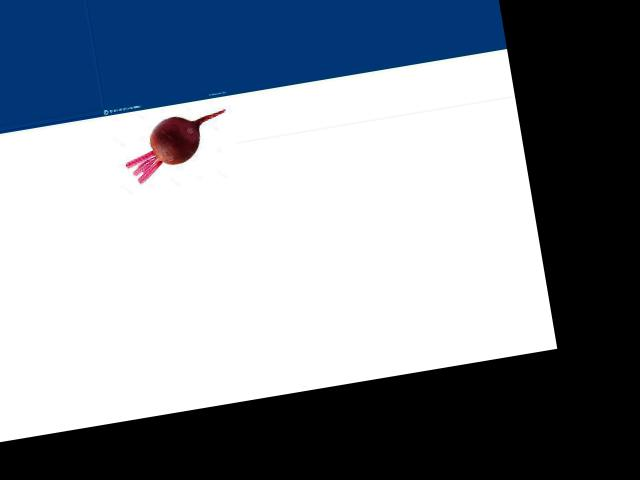beet: (120, 108, 234, 184)
